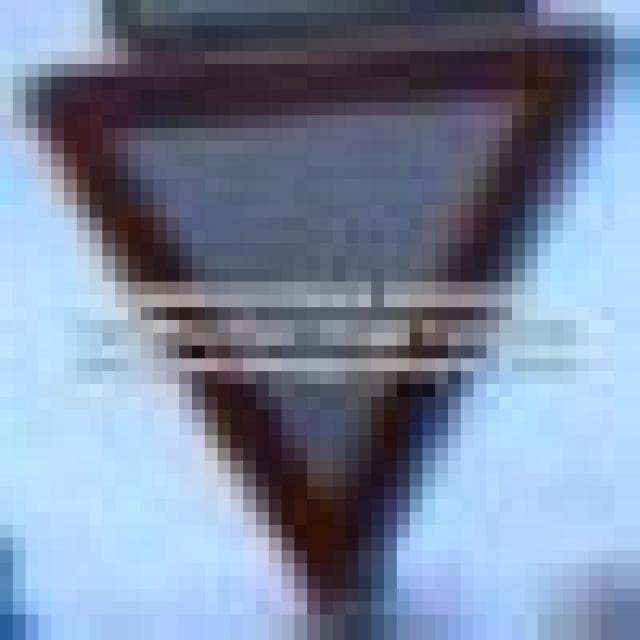GIVE_WAY: (13, 39, 627, 602)
